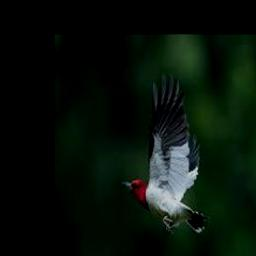Woodpecker: (122, 73, 209, 234)
